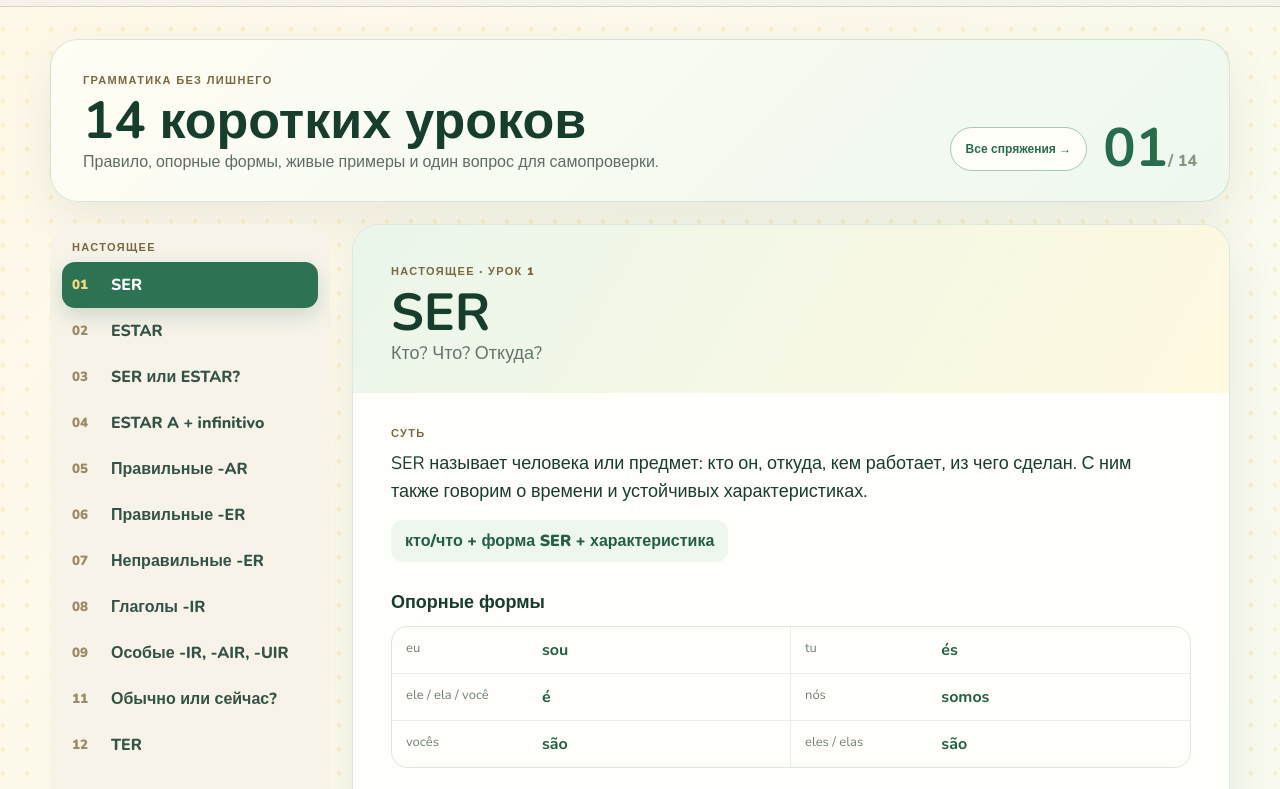
Scenario: Practice composition controls › opens conjugation practice from its lesson and returns to the lesson catalog
Click the button "05 Правильные -AR" at (190, 469), box [62, 446, 318, 492]
(page scrolled)
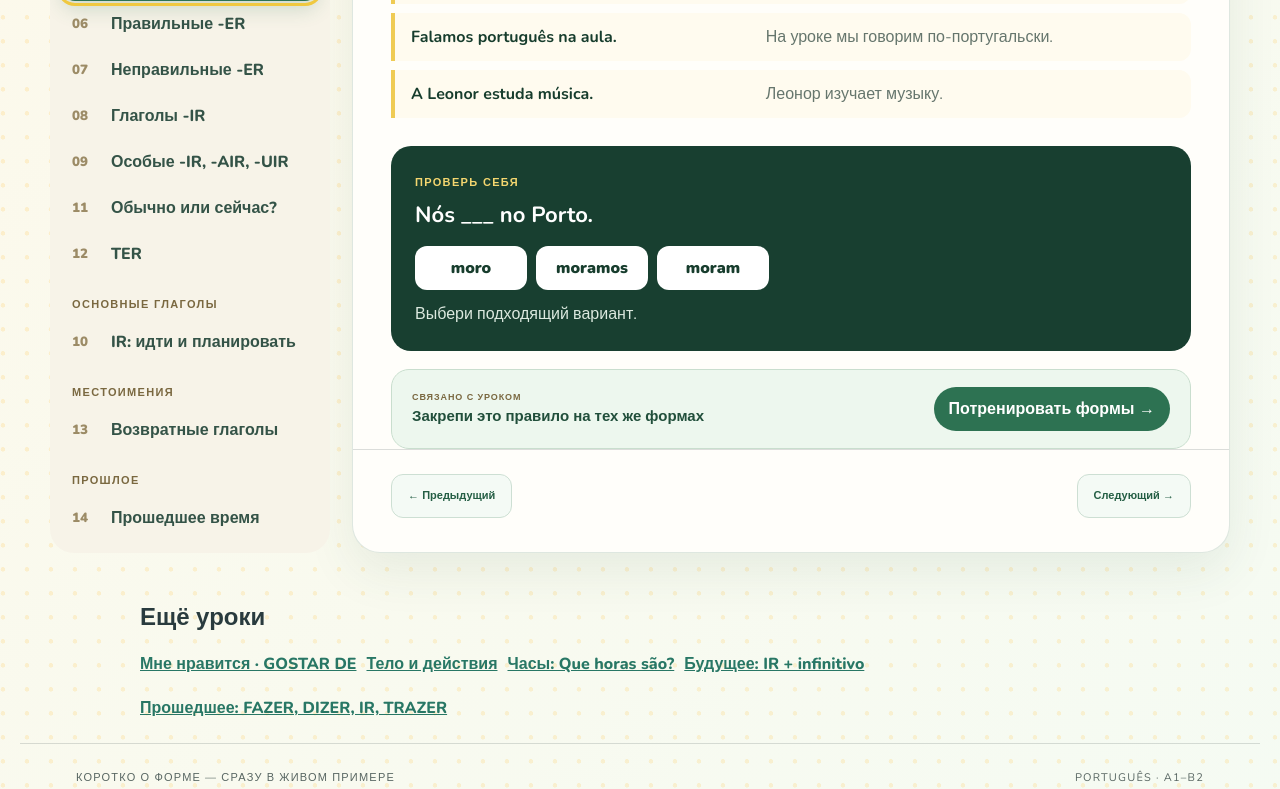
Click the button "Потренировать формы →" at (1052, 409), box [934, 387, 1170, 431]
(page scrolled)
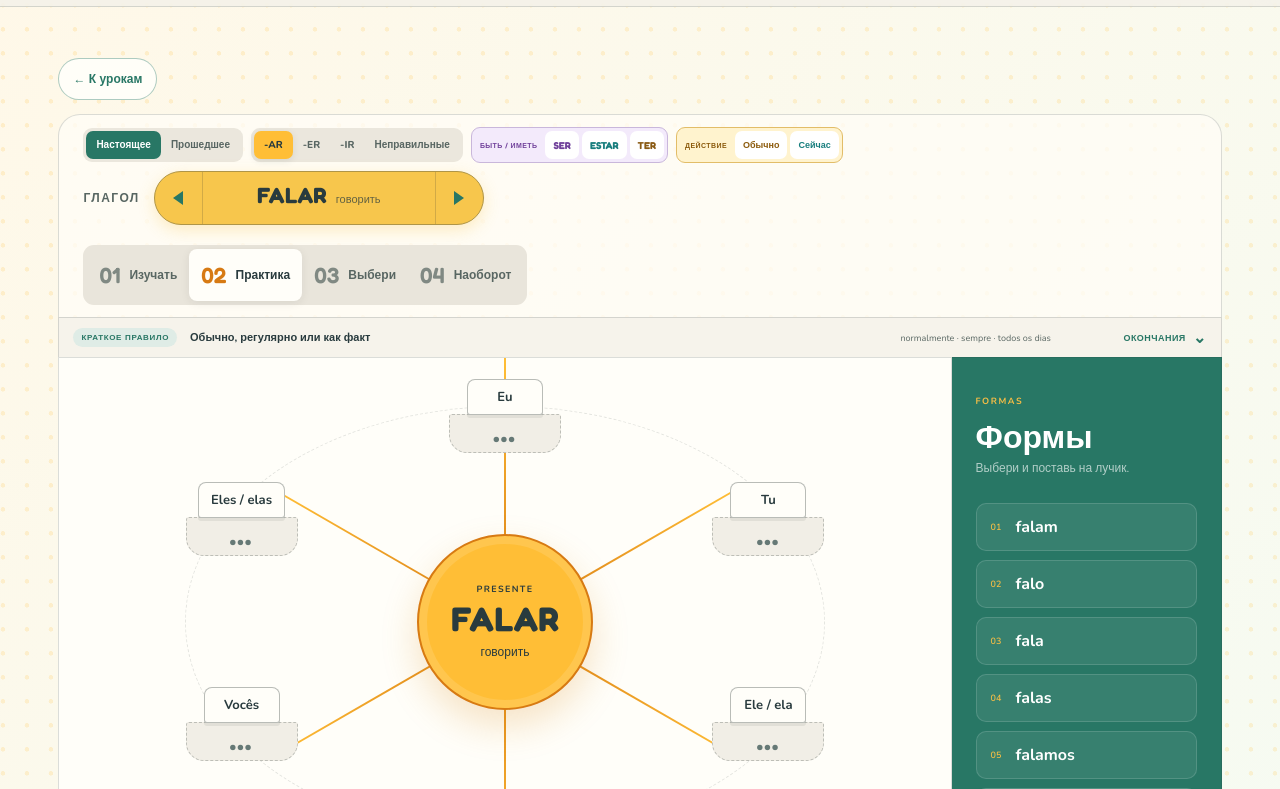
Expected: the button "← К урокам" is shown
Expected: the text "falar" next to "Глагол" is shown, [257, 182, 327, 208]
Click the button "← К урокам" at (108, 79), box [58, 58, 157, 100]
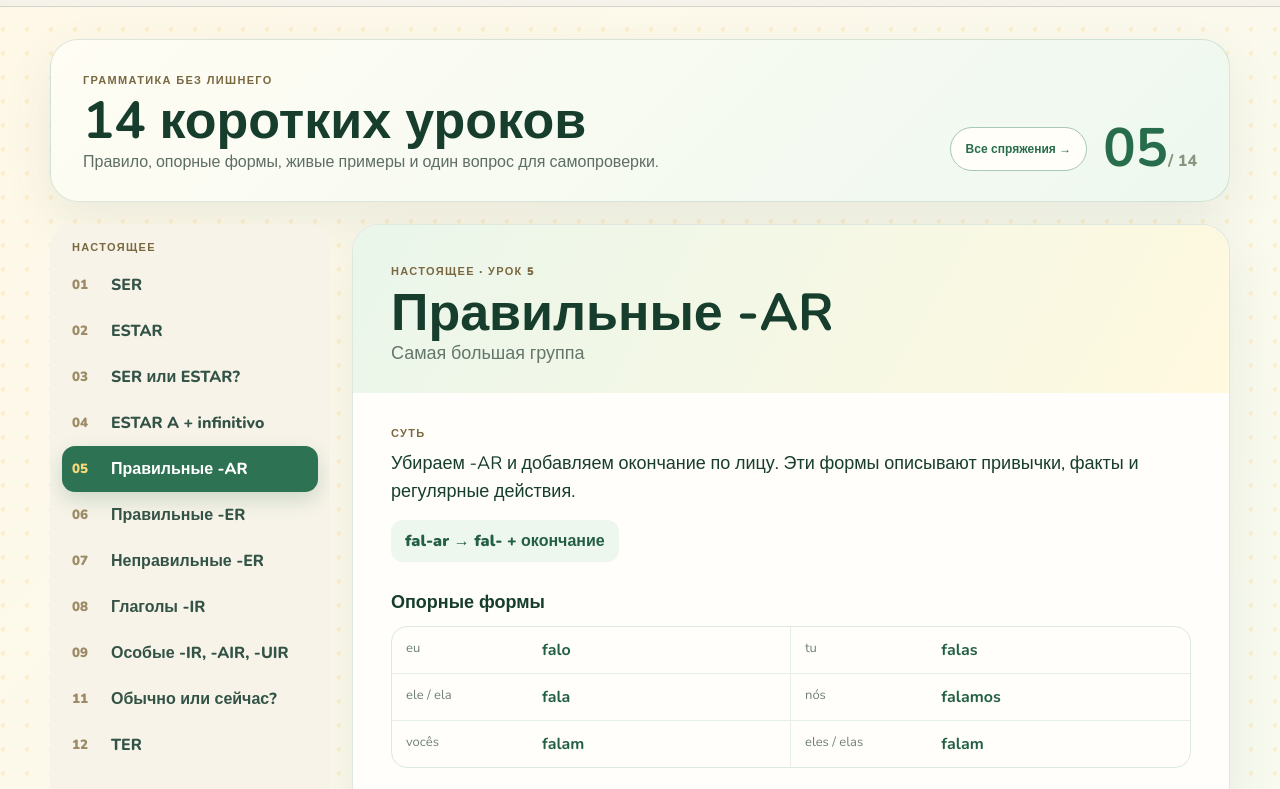
Expected: the heading "14 коротких уроков" is shown, [83, 95, 659, 147]
Expected: the heading "Правильные -AR" is shown, [391, 277, 834, 348]
